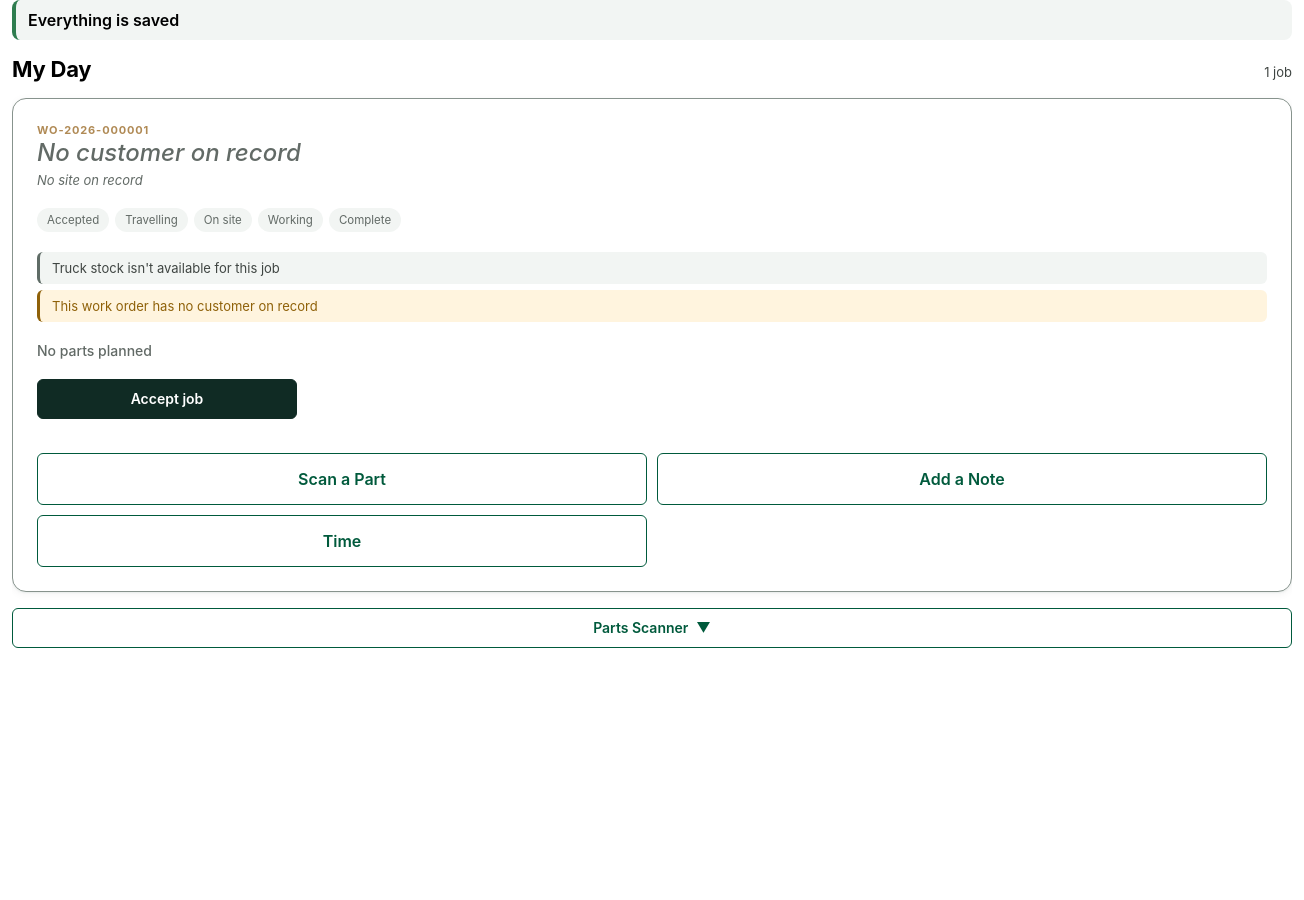
Test: FieldMode -- safe error copy for a failed action (site-work r3 L) › a raw transitionWorkOrder failure never leaks err.message; safe copy shown instead
Click the button "Accept job": (167, 399) [37,379,297,419]
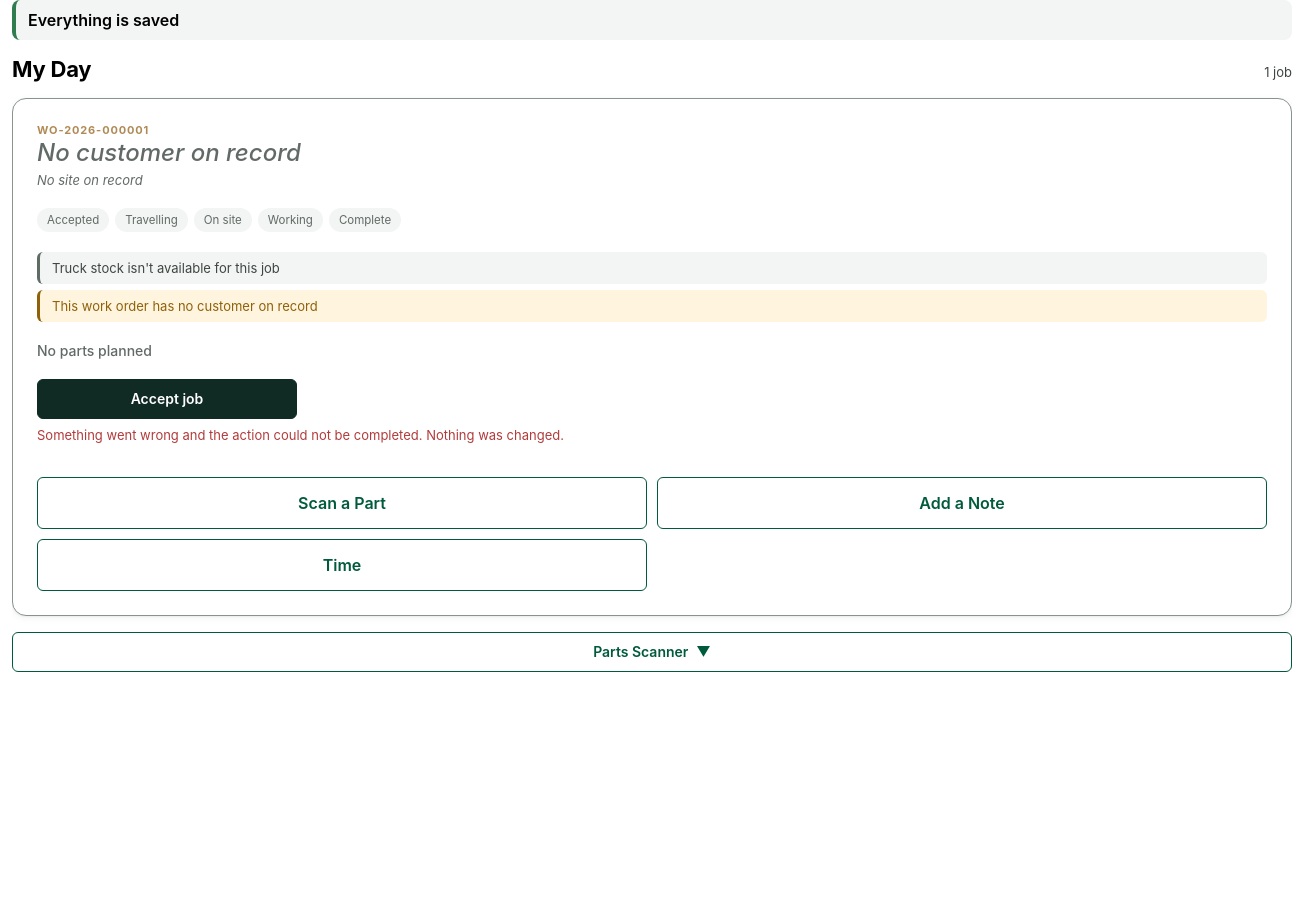
Expected: the message with class "fo-job__failure" shows "Nothing was changed", [37,427,564,443]
